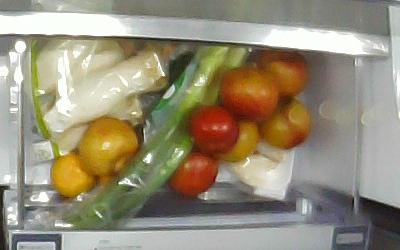prune: (75, 114, 139, 176), (218, 65, 278, 121), (256, 95, 311, 149), (185, 103, 239, 156), (252, 49, 309, 98), (167, 148, 219, 196), (217, 117, 259, 162)
tangerine: (49, 151, 96, 197)
